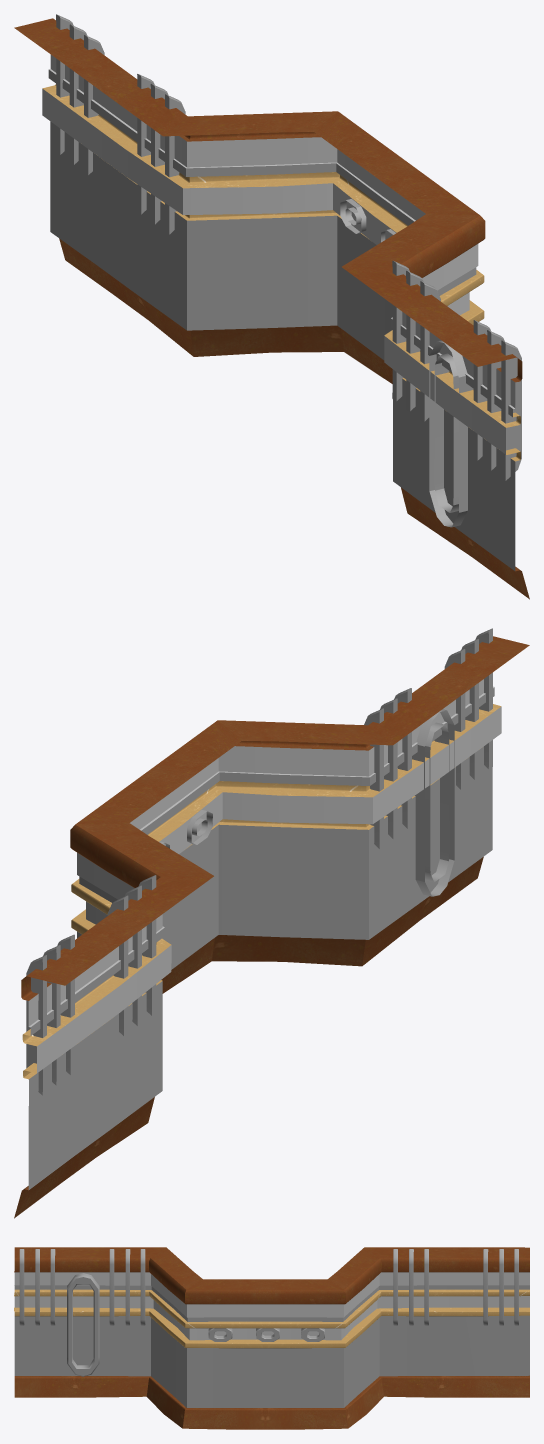
File: Wall_Chunk_01.fbx
3 views of the same model, one above another, from view 1: azimuth 30°, elevation 25°; view 2: azimuth 150°, elevation 25°; view 3: azimuth 270°, elevation 25° (orthographic). The views are drawn at different scales.
Parts seen in each view (by area): view 1: Wall_Chunk_01; view 2: Wall_Chunk_01; view 3: Wall_Chunk_01.
Boxes of the visible parts, <box> form: Wall_Chunk_01: <box>14,14,529,599</box>; Wall_Chunk_01: <box>14,628,529,1218</box>; Wall_Chunk_01: <box>14,1247,529,1429</box>.
Size of the model in its own units: 220 by 319 by 1041.
